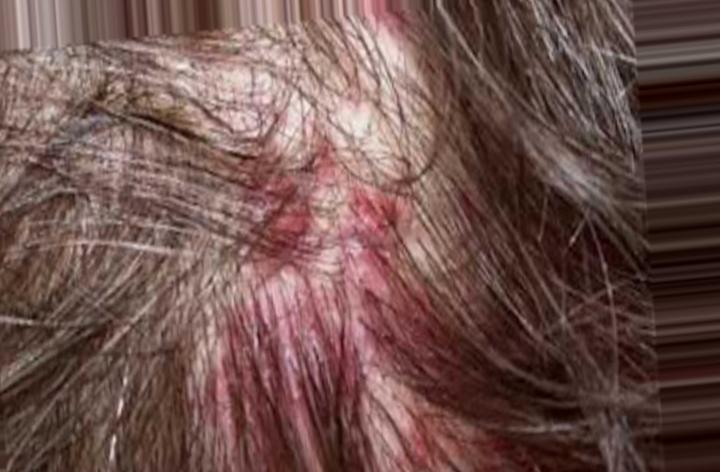Folliculitis: (204, 289, 455, 469), (231, 138, 403, 288)
